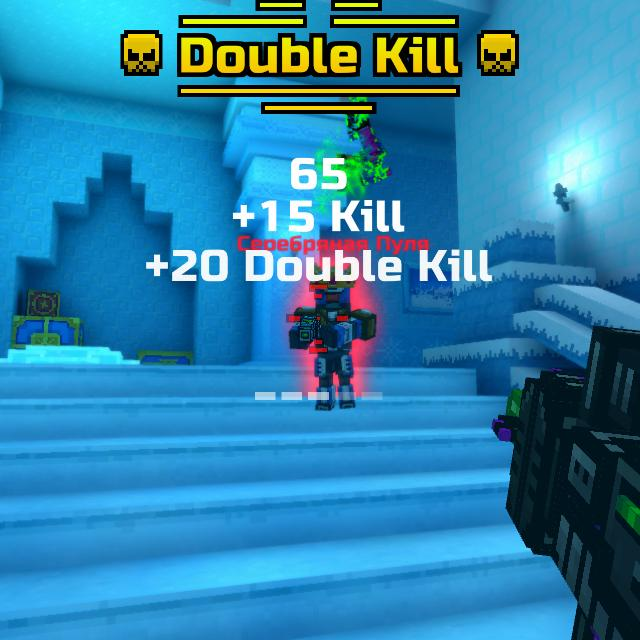Enemy: (289, 270, 378, 411)
